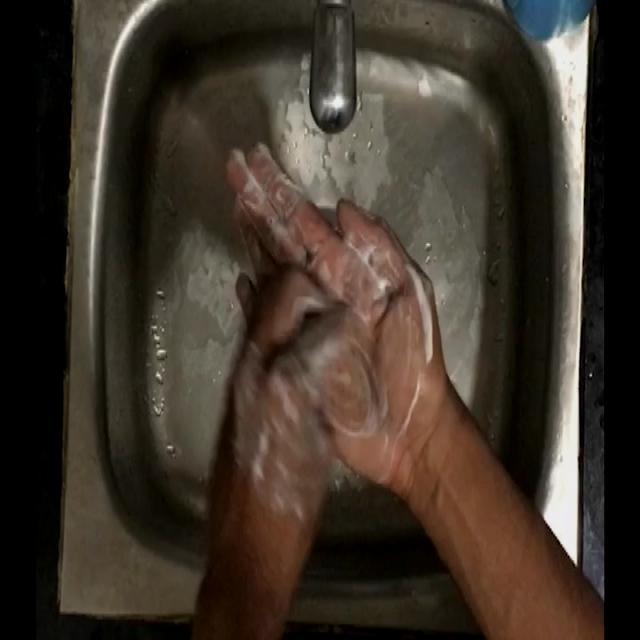step_6: (215, 128, 436, 516)
